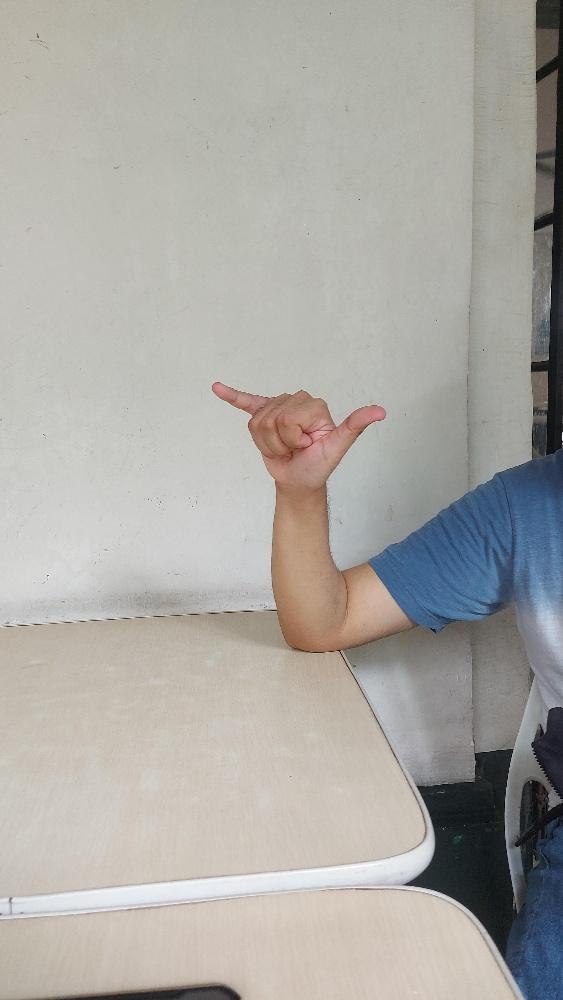y: (210, 380, 385, 490)
